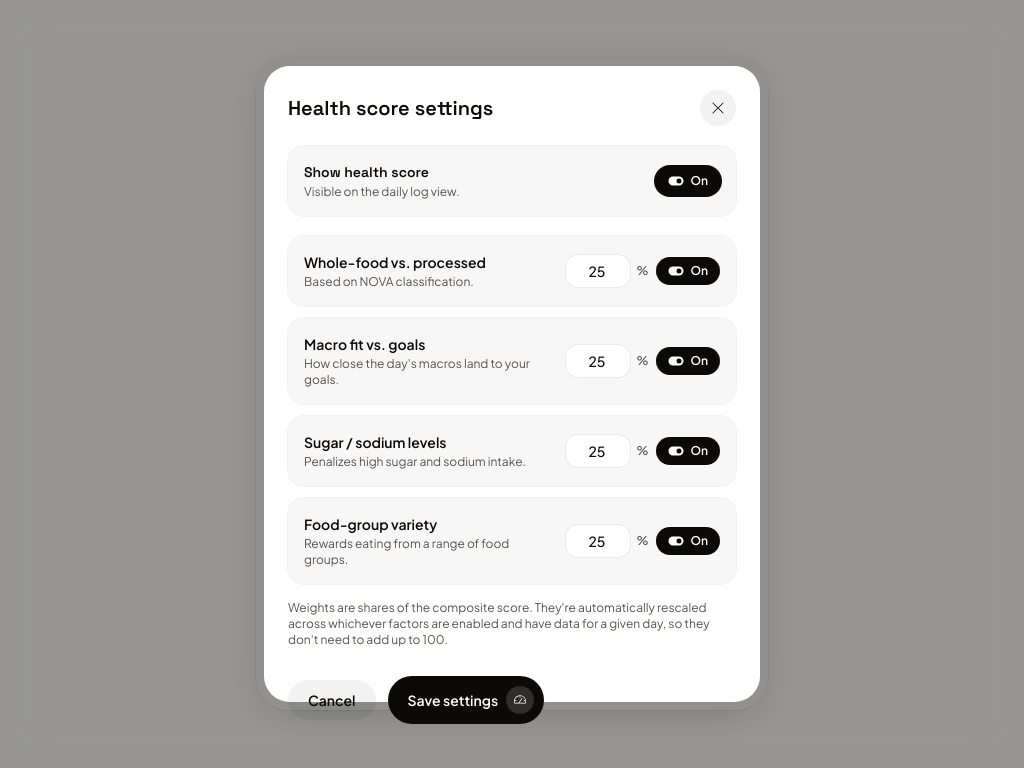
HealthScoreSettingsModal — master toggle disables factor rows › re-enables factor rows when master is toggled back on
Click the button with aria-label "Turn off health score" at coordinates (688, 181), box [656,167,720,195]
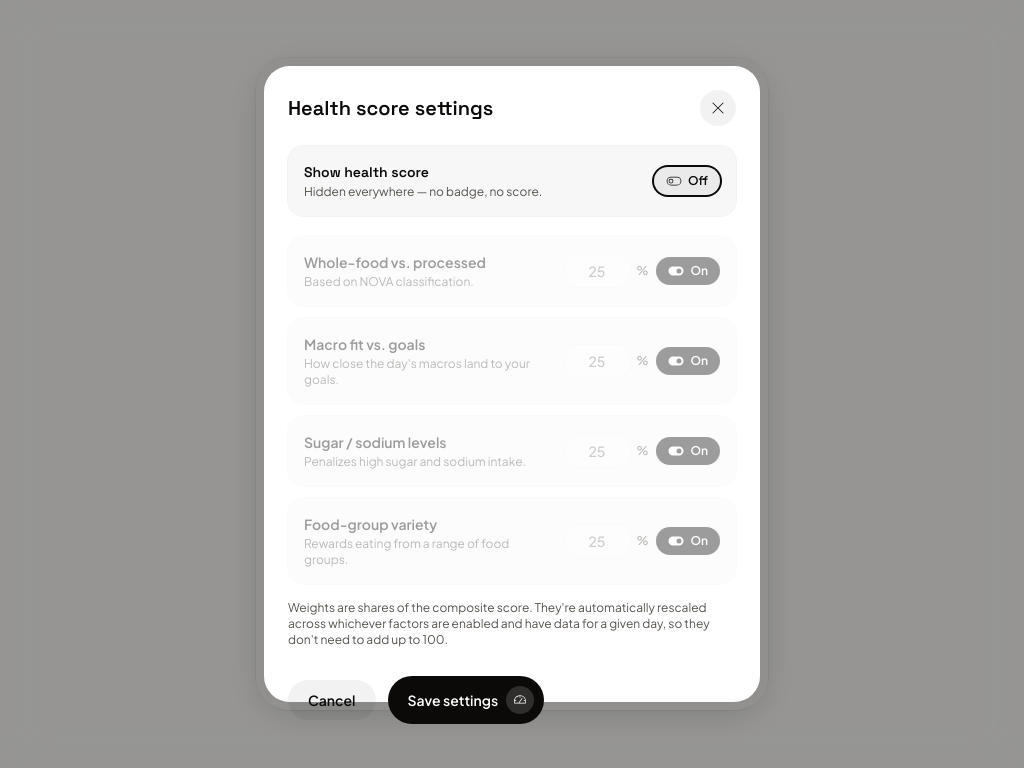
Click the button with aria-label "Turn on health score" at coordinates (687, 181), box [654,167,720,195]
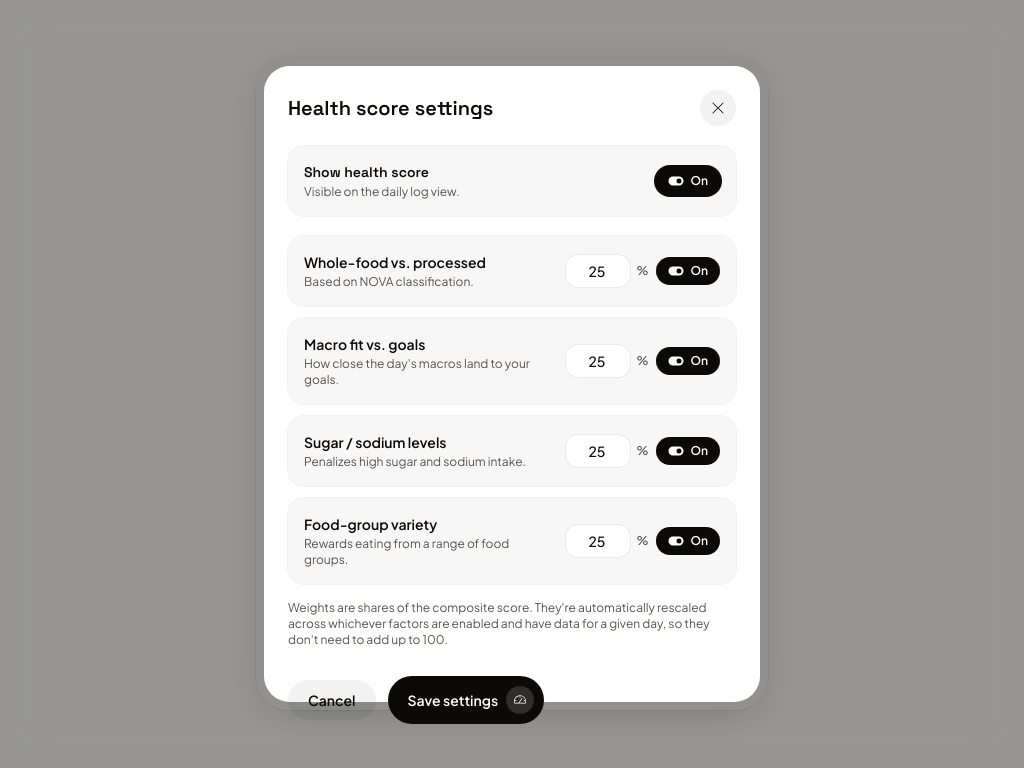
Result: the number field showing "25" next to "Whole-food vs. processed" is enabled at [566,255,630,287]
Result: the number field showing "25" in the row of "Macro fit vs. goals" is enabled at [566,345,630,377]
Result: the number field showing "25" next to "Penalizes high sugar and sodium intake." is enabled at [566,435,630,467]
